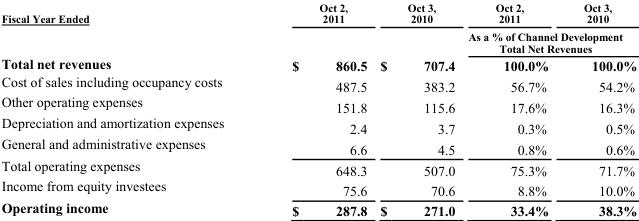table: (0, 1, 636, 217)
table column: (0, 1, 257, 217), (257, 1, 372, 217), (460, 1, 565, 217), (372, 1, 460, 217), (565, 1, 636, 217)
table column header: (0, 1, 636, 54)
table row: (0, 27, 636, 54), (0, 1, 636, 27), (0, 135, 636, 157), (0, 177, 636, 199), (0, 73, 636, 94), (0, 94, 636, 115), (0, 115, 636, 135), (0, 157, 636, 177), (0, 54, 636, 73), (0, 199, 636, 217)
table spanning cell: (0, 1, 257, 54), (257, 1, 372, 54), (460, 27, 636, 54), (372, 1, 460, 54)
